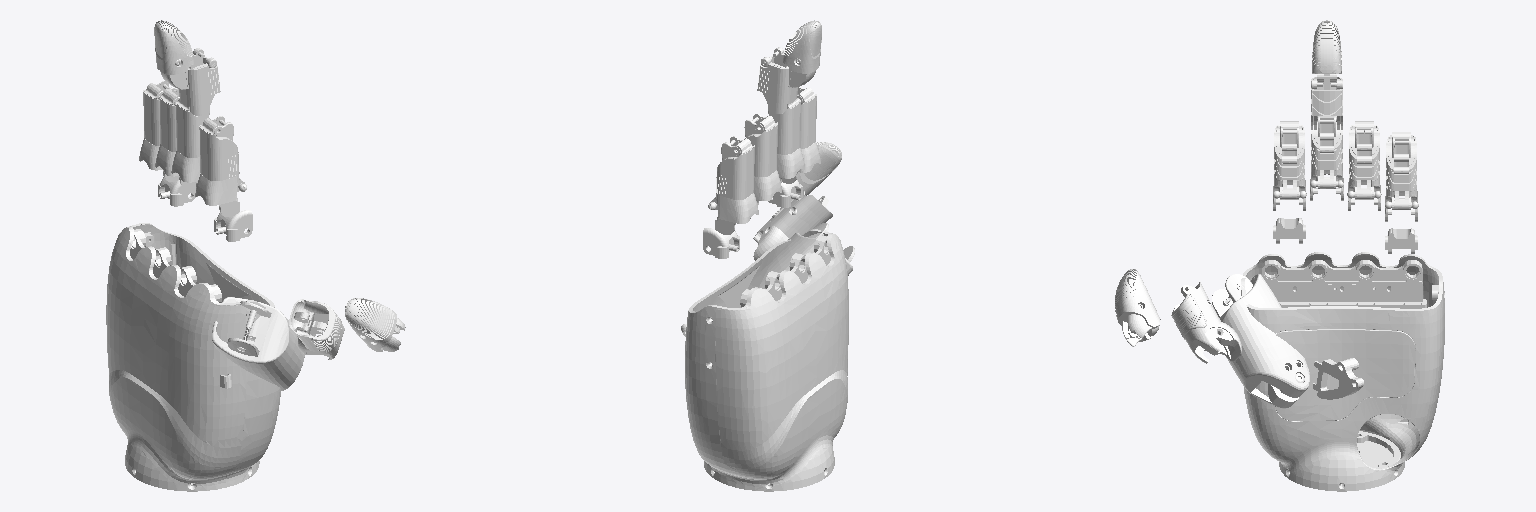
--- What the picture shows (computed from the rendered views, not written in the file) ---
3 views of the same robot in one strip: view 1: azimuth 30°, elevation 25°; view 2: azimuth 150°, elevation 25°; view 3: azimuth 270°, elevation 25° (orthographic).
Robot: linkerhand_l10_7_left.urdf — 21 links, 20 joints (20 revolute); root link hand_base_link; default pose: every joint at zero.
Links seen in each view (by area): view 1: hand_base_link, thumb_metacarpals, index_proximal, thumb_proximal, thumb_distal, middle_distal, middle_proximal, middle_middle, pinky_proximal, ring_proximal, index_metacarpals, pinky_metacarpals; view 2: hand_base_link, pinky_proximal, thumb_proximal, ring_proximal, middle_distal, middle_proximal, middle_middle, index_proximal, thumb_metacarpals, thumb_distal, pinky_metacarpals, index_metacarpals; view 3: hand_base_link, thumb_metacarpals, thumb_proximal, index_proximal, ring_proximal, pinky_proximal, thumb_distal, middle_proximal, middle_distal, thumb_metacarpals_base2, middle_middle, index_metacarpals (+1 smaller).
Boxes of the visible links, bbox=[...] form: hand_base_link: bbox=[106, 223, 280, 491]; thumb_metacarpals: bbox=[212, 297, 304, 390]; index_proximal: bbox=[195, 116, 246, 216]; thumb_proximal: bbox=[289, 299, 344, 359]; thumb_distal: bbox=[345, 298, 405, 351]; middle_distal: bbox=[154, 20, 193, 89]; middle_proximal: bbox=[171, 99, 210, 186]; middle_middle: bbox=[179, 48, 220, 121]; pinky_proximal: bbox=[139, 81, 178, 181]; ring_proximal: bbox=[155, 88, 195, 187]; index_metacarpals: bbox=[214, 202, 252, 241]; pinky_metacarpals: bbox=[158, 177, 195, 206]; hand_base_link: bbox=[685, 229, 848, 491]; pinky_proximal: bbox=[708, 136, 758, 234]; thumb_proximal: bbox=[753, 190, 832, 260]; ring_proximal: bbox=[744, 114, 781, 204]; middle_distal: bbox=[783, 20, 821, 87]; middle_proximal: bbox=[767, 98, 804, 182]; middle_middle: bbox=[757, 47, 797, 118]; index_proximal: bbox=[782, 87, 820, 183]; thumb_metacarpals: bbox=[759, 223, 854, 288]; thumb_distal: bbox=[797, 142, 841, 195]; pinky_metacarpals: bbox=[703, 220, 739, 258]; index_metacarpals: bbox=[768, 180, 802, 207]; hand_base_link: bbox=[1241, 252, 1444, 491]; thumb_metacarpals: bbox=[1212, 274, 1309, 408]; thumb_proximal: bbox=[1171, 282, 1241, 363]; index_proximal: bbox=[1273, 121, 1306, 210]; ring_proximal: bbox=[1347, 121, 1381, 210]; pinky_proximal: bbox=[1385, 132, 1418, 221]; thumb_distal: bbox=[1115, 269, 1160, 346]; middle_proximal: bbox=[1310, 116, 1343, 200]; middle_distal: bbox=[1312, 20, 1341, 89]; thumb_metacarpals_base2: bbox=[1313, 358, 1363, 399]; middle_middle: bbox=[1311, 76, 1342, 129]; index_metacarpals: bbox=[1273, 218, 1305, 243].
Size in the robot's own frame: 0.0896 by 0.1682 by 0.2394 metres.
Meshes: 21 distinct files referenced, 14 mesh visuals loaded (14 binary STL); not drawn: 7 (reference not matched to a file when rendering).

The robot description file, URDF, robot "linkerhand_l10_7_left.urdf":
<?xml version="1.0" encoding="utf-8"?>
<!-- This URDF was automatically created by SolidWorks to URDF Exporter! Originally created by Stephen Brawner ([email redacted]) 
     Commit Version: 1.6.0-4-g7f85cfe  Build Version: 1.6.7995.38578
     For more information, please see http://wiki.ros.org/sw_urdf_exporter -->
<robot
  name="linkerhand_l10_7_left.urdf">
  <link
    name="hand_base_link">
    <inertial>
      <origin
        xyz="-0.00378861347427444 0.000820204450212636 0.0805686615687793"
        rpy="0 0 0" />
      <mass
        value="0.103652479414282" />
      <inertia
        ixx="0.000193076183439416"
        ixy="-1.28622350247984E-06"
        ixz="2.06064564158949E-07"
        iyy="0.00012926288517179"
        iyz="2.33887125852557E-06"
        izz="7.7154522927083E-05" />
    </inertial>
    <visual>
      <origin
        xyz="0 0 0"
        rpy="0 0 0" />
      <geometry>
        <mesh
          filename="meshes/hand_base_link.STL" />
      </geometry>
      <material
        name="">
        <color
          rgba="1 1 1 1" />
      </material>
    </visual>
    <collision>
      <origin
        xyz="0 0 0"
        rpy="0 0 0" />
      <geometry>
        <mesh
          filename="meshes/hand_base_link.STL" />
      </geometry>
    </collision>
  </link>
  <link
    name="thumb_metacarpals_base1">
    <inertial>
      <origin
        xyz="0.0284774512174003 0.00319294525979458 0.000288805100279406"
        rpy="0 0 0" />
      <mass
        value="0.00845816139945221" />
      <inertia
        ixx="1.40261486759336E-06"
        ixy="-1.18203915023492E-07"
        ixz="-1.77734618116876E-08"
        iyy="9.82563502315962E-07"
        iyz="6.88489366314261E-08"
        izz="7.36187487063603E-07" />
    </inertial>
    <visual>
      <origin
        xyz="0 0 0"
        rpy="0 0 0" />
      <geometry>
        <mesh
          filename="meshes/thumb_metacarpals_base1.STL" />
      </geometry>
      <material
        name="">
        <color
          rgba="1 1 1 1" />
      </material>
    </visual>
    <collision>
      <origin
        xyz="0 0 0"
        rpy="0 0 0" />
      <geometry>
        <mesh
          filename="meshes/thumb_metacarpals_base1.STL" />
      </geometry>
    </collision>
  </link>
  <joint
    name="thumb_cmc_roll"
    type="revolute">
    <origin
      xyz="-0.013419 -0.012551 0.060602"
      rpy="0 0 0" />
    <parent
      link="hand_base_link" />
    <child
      link="thumb_metacarpals_base1" />
    <axis
      xyz="-0.99996 0 -0.0087265" />
    <limit
      lower="0"
      upper="1.1339"
      effort="100"
      velocity="1" />
  </joint>
  <link
    name="thumb_metacarpals_base2">
    <inertial>
      <origin
        xyz="0.00183846579918134 -0.00587846426611621 -0.0015162158210808"
        rpy="0 0 0" />
      <mass
        value="0.00244725578113259" />
      <inertia
        ixx="1.15251315698557E-07"
        ixy="4.89370850547165E-09"
        ixz="2.66612542059565E-09"
        iyy="9.94309628765418E-08"
        iyz="3.10591576019106E-09"
        izz="6.87375869983625E-08" />
    </inertial>
    <visual>
      <origin
        xyz="0 0 0"
        rpy="0 0 0" />
      <geometry>
        <mesh
          filename="meshes/thumb_metacarpals_base2.STL" />
      </geometry>
      <material
        name="">
        <color
          rgba="1 1 1 1" />
      </material>
    </visual>
    <collision>
      <origin
        xyz="0 0 0"
        rpy="0 0 0" />
      <geometry>
        <mesh
          filename="meshes/thumb_metacarpals_base2.STL" />
      </geometry>
    </collision>
  </link>
  <joint
    name="thumb_cmc_yaw"
    type="revolute">
    <origin
      xyz="0.035797 0.00065879 0.00045944"
      rpy="0 0 0" />
    <parent
      link="thumb_metacarpals_base1" />
    <child
      link="thumb_metacarpals_base2" />
    <axis
      xyz="-0.008517 -0.21782 0.97595" />
    <limit
      lower="0"
      upper="1.9189"
      effort="100"
      velocity="1" />
  </joint>
  <link
    name="thumb_metacarpals">
    <inertial>
      <origin
        xyz="0.00183662026125164 3.48962479811143E-06 0.0269904486748884"
        rpy="0 0 0" />
      <mass
        value="0.01520120856034" />
      <inertia
        ixx="2.9536990439562E-06"
        ixy="-4.54477085913726E-11"
        ixz="1.58082889158651E-07"
        iyy="3.8477051320862E-06"
        iyz="-4.17561402252793E-10"
        izz="1.32008356198982E-06" />
    </inertial>
    <visual>
      <origin
        xyz="0 0 0"
        rpy="0 0 0" />
      <geometry>
        <mesh
          filename="meshes/thumb_metacarpals.STL" />
      </geometry>
      <material
        name="">
        <color
          rgba="1 1 1 1" />
      </material>
    </visual>
    <collision>
      <origin
        xyz="0 0 0"
        rpy="0 0 0" />
      <geometry>
        <mesh
          filename="meshes/thumb_metacarpals.STL" />
      </geometry>
    </collision>
  </link>
  <joint
    name="thumb_cmc_pitch"
    type="revolute">
    <origin
      xyz="0.0046051 -0.014383 -0.0051478"
      rpy="-0.16356 -1.1191 2.0038" />
    <parent
      link="thumb_metacarpals_base2" />
    <child
      link="thumb_metacarpals" />
    <axis
      xyz="0 1 0" />
    <limit
      lower="0"
      upper="0.5149"
      effort="0"
      velocity="0" />
  </joint>
  <link
    name="thumb_proximal">
    <inertial>
      <origin
        xyz="0.0015926125860982 4.26589066317498E-06 0.0151572207811941"
        rpy="0 0 0" />
      <mass
        value="0.00662223966318386" />
      <inertia
        ixx="1.0152616293145E-06"
        ixy="6.75215818960843E-12"
        ixz="4.42240858300533E-08"
        iyy="9.10425093388008E-07"
        iyz="-2.56550662127861E-11"
        izz="4.47461802494835E-07" />
    </inertial>
    <visual>
      <origin
        xyz="0 0 0"
        rpy="0 0 0" />
      <geometry>
        <mesh
          filename="meshes/thumb_proximal.STL" />
      </geometry>
      <material
        name="">
        <color
          rgba="1 1 1 1" />
      </material>
    </visual>
    <collision>
      <origin
        xyz="0 0 0"
        rpy="0 0 0" />
      <geometry>
        <mesh
          filename="meshes/thumb_proximal.STL" />
      </geometry>
    </collision>
  </link>
  <joint
    name="thumb_mcp"
    type="revolute">
    <origin
      xyz="0.0061722 0 0.047968"
      rpy="0 0 0" />
    <parent
      link="thumb_metacarpals" />
    <child
      link="thumb_proximal" />
    <axis
      xyz="0 1 0" />
    <limit
      lower="0"
      upper="0.7152"
      effort="100"
      velocity="1" />
    <mimic
      joint="thumb_cmc_pitch"
      multiplier="1.3898"
      offset="0" />
  </joint>
  <link
    name="thumb_distal">
    <inertial>
      <origin
        xyz="-0.00138804783940386 -1.95109829512208E-06 0.0115761271998154"
        rpy="0 0 0" />
      <mass
        value="0.00512789958515099" />
      <inertia
        ixx="3.30786354228455E-07"
        ixy="3.37981828718406E-10"
        ixz="1.04683577058069E-07"
        iyy="3.23607405408934E-07"
        iyz="1.24601619348998E-10"
        izz="2.48874162996129E-07" />
    </inertial>
    <visual>
      <origin
        xyz="0 0 0"
        rpy="0 0 0" />
      <geometry>
        <mesh
          filename="meshes/thumb_distal.STL" />
      </geometry>
      <material
        name="">
        <color
          rgba="1 1 1 1" />
      </material>
    </visual>
    <collision>
      <origin
        xyz="0 0 0"
        rpy="0 0 0" />
      <geometry>
        <mesh
          filename="meshes/thumb_distal.STL" />
      </geometry>
    </collision>
  </link>
  <joint
    name="thumb_ip"
    type="revolute">
    <origin
      xyz="-0.00017064 0 0.038665"
      rpy="0 0 0" />
    <parent
      link="thumb_proximal" />
    <child
      link="thumb_distal" />
    <axis
      xyz="0 1 0" />
    <limit
      lower="0"
      upper="0.7763"
      effort="100"
      velocity="1" />
    <mimic
      joint="thumb_cmc_pitch"
      multiplier="1.508"
      offset="0" />
  </joint>
  <link
    name="index_metacarpals">
    <inertial>
      <origin
        xyz="-0.00152426817464821 6.05770268113925E-07 0.0106911596123391"
        rpy="0 0 0" />
      <mass
        value="0.00388771277323252" />
      <inertia
        ixx="1.87385239390143E-07"
        ixy="-1.50747799029618E-11"
        ixz="-1.3585152124314E-08"
        iyy="2.75278189614443E-07"
        iyz="-2.13460044424543E-11"
        izz="2.06630683818818E-07" />
    </inertial>
    <visual>
      <origin
        xyz="0 0 0"
        rpy="0 0 0" />
      <geometry>
        <mesh
          filename="meshes/index_metacarpals.STL" />
      </geometry>
      <material
        name="">
        <color
          rgba="1 1 1 1" />
      </material>
    </visual>
    <collision>
      <origin
        xyz="0 0 0"
        rpy="0 0 0" />
      <geometry>
        <mesh
          filename="meshes/index_metacarpals.STL" />
      </geometry>
    </collision>
  </link>
  <joint
    name="index_mcp_roll"
    type="revolute">
    <origin
      xyz="-0.0021643 -0.026654 0.13253"
      rpy="0 0 0" />
    <parent
      link="hand_base_link" />
    <child
      link="index_metacarpals" />
    <axis
      xyz="0.99996 0 0.0087265" />
    <limit
      lower="0"
      upper="0.2181"
      effort="100"
      velocity="1" />
  </joint>
  <link
    name="index_proximal">
    <inertial>
      <origin
        xyz="-0.00138261335013087 -2.0448073701218E-06 0.0182296115874793"
        rpy="0 0 0" />
      <mass
        value="0.00316246721925245" />
      <inertia
        ixx="3.56395782183238E-07"
        ixy="-1.519753847635E-11"
        ixz="4.33017644796655E-08"
        iyy="3.51905921291625E-07"
        iyz="1.08366129189436E-10"
        izz="1.41611972744247E-07" />
    </inertial>
    <visual>
      <origin
        xyz="0 0 0"
        rpy="0 0 0" />
      <geometry>
        <mesh
          filename="meshes/index_proximal.STL" />
      </geometry>
      <material
        name="">
        <color
          rgba="1 1 1 1" />
      </material>
    </visual>
    <collision>
      <origin
        xyz="0 0 0"
        rpy="0 0 0" />
      <geometry>
        <mesh
          filename="meshes/index_proximal.STL" />
      </geometry>
    </collision>
  </link>
  <joint
    name="index_mcp_pitch"
    type="revolute">
    <origin
      xyz="0.0020763 0 0.015294"
      rpy="0 0 0" />
    <parent
      link="index_metacarpals" />
    <child
      link="index_proximal" />
    <axis
      xyz="0 1 0" />
    <limit
      lower="0"
      upper="1.3607"
      effort="100"
      velocity="1" />
  </joint>
  <link
    name="index_middle">
    <inertial>
      <origin
        xyz="-0.00259933527445673 2.18965318593556E-06 0.0110174750966451"
        rpy="0 0 0" />
      <mass
        value="0.00283043922879456" />
      <inertia
        ixx="2.60328600820399E-07"
        ixy="-5.78747075104944E-11"
        ixz="4.11785819343582E-08"
        iyy="2.3307752147835E-07"
        iyz="2.81942890795077E-11"
        izz="1.27252338208461E-07" />
    </inertial>
    <visual>
      <origin
        xyz="0 0 0"
        rpy="0 0 0" />
      <geometry>
        <mesh
          filename="meshes/index_middle.STL" />
      </geometry>
      <material
        name="">
        <color
          rgba="1 1 1 1" />
      </material>
    </visual>
    <collision>
      <origin
        xyz="0 0 0"
        rpy="0 0 0" />
      <geometry>
        <mesh
          filename="meshes/index_middle.STL" />
      </geometry>
    </collision>
  </link>
  <joint
    name="index_pip"
    type="revolute">
    <origin
      xyz="-0.0013807 0 0.035624"
      rpy="0 0 0" />
    <parent
      link="index_proximal" />
    <child
      link="index_middle" />
    <axis
      xyz="0 1 0" />
    <limit
      lower="0"
      upper="1.8317"
      effort="100"
      velocity="1" />
    <mimic
      joint="index_mcp_pitch"
      multiplier="1.3462"
      offset="0" />
  </joint>
  <link
    name="index_distal">
    <inertial>
      <origin
        xyz="-0.000710517111010627 -4.75726794854636E-06 0.012145336450558"
        rpy="0 0 0" />
      <mass
        value="0.00314452064297397" />
      <inertia
        ixx="1.63317340328391E-07"
        ixy="-2.09419656935959E-11"
        ixz="4.33496816458187E-08"
        iyy="1.48361285562251E-07"
        iyz="1.96803996917722E-10"
        izz="9.85553531650042E-08" />
    </inertial>
    <visual>
      <origin
        xyz="0 0 0"
        rpy="0 0 0" />
      <geometry>
        <mesh
          filename="meshes/index_distal.STL" />
      </geometry>
      <material
        name="">
        <color
          rgba="1 1 1 1" />
      </material>
    </visual>
    <collision>
      <origin
        xyz="0 0 0"
        rpy="0 0 0" />
      <geometry>
        <mesh
          filename="meshes/index_distal.STL" />
      </geometry>
    </collision>
  </link>
  <joint
    name="index_dip"
    type="revolute">
    <origin
      xyz="-0.0054686 0 0.025665"
      rpy="0 0 0" />
    <parent
      link="index_middle" />
    <child
      link="index_distal" />
    <axis
      xyz="0 1 0" />
    <limit
      lower="0"
      upper="0.628"
      effort="100"
      velocity="1" />
    <mimic
      joint="index_mcp_pitch"
      multiplier="0.4616"
      offset="0" />
  </joint>
  <link
    name="middle_proximal">
    <inertial>
      <origin
        xyz="-0.00139098027014184 -2.04476498844031E-06 0.0182289750275599"
        rpy="0 0 0" />
      <mass
        value="0.00316246719662224" />
      <inertia
        ixx="3.56355985740973E-07"
        ixy="-1.52464655137029E-11"
        ixz="4.34003274159042E-08"
        iyy="3.51905920397221E-07"
        iyz="1.08359634878477E-10"
        izz="1.41651767407151E-07" />
    </inertial>
    <visual>
      <origin
        xyz="0 0 0"
        rpy="0 0 0" />
      <geometry>
        <mesh
          filename="meshes/middle_proximal.STL" />
      </geometry>
      <material
        name="">
        <color
          rgba="1 1 1 1" />
      </material>
    </visual>
    <collision>
      <origin
        xyz="0 0 0"
        rpy="0 0 0" />
      <geometry>
        <mesh
          filename="meshes/middle_proximal.STL" />
      </geometry>
    </collision>
  </link>
  <joint
    name="middle_mcp_pitch"
    type="revolute">
    <origin
      xyz="-0.0021316 -0.0076542 0.15281"
      rpy="0 0 0" />
    <parent
      link="hand_base_link" />
    <child
      link="middle_proximal" />
    <axis
      xyz="0 1 0" />
    <limit
      lower="0"
      upper="1.3607"
      effort="100"
      velocity="1" />
  </joint>
  <link
    name="middle_middle">
    <inertial>
      <origin
        xyz="-0.0026170048250792 2.18964489276385E-06 0.0110132913946175"
        rpy="0 0 0" />
      <mass
        value="0.00283043921858529" />
      <inertia
        ixx="2.6019615015243E-07"
        ixy="-5.79194626881696E-11"
        ixz="4.13918339836743E-08"
        iyy="2.33077520740401E-07"
        iyz="2.81014096462077E-11"
        izz="1.27384787247362E-07" />
    </inertial>
    <visual>
      <origin
        xyz="0 0 0"
        rpy="0 0 0" />
      <geometry>
        <mesh
          filename="meshes/middle_middle.STL" />
      </geometry>
      <material
        name="">
        <color
          rgba="1 1 1 1" />
      </material>
    </visual>
    <collision>
      <origin
        xyz="0 0 0"
        rpy="0 0 0" />
      <geometry>
        <mesh
          filename="meshes/middle_middle.STL" />
      </geometry>
    </collision>
  </link>
  <joint
    name="middle_pip"
    type="revolute">
    <origin
      xyz="-0.001397 0 0.035623"
      rpy="0 0 0" />
    <parent
      link="middle_proximal" />
    <child
      link="middle_middle" />
    <axis
      xyz="0 1 0" />
    <limit
      lower="0"
      upper="1.8317"
      effort="100"
      velocity="1" />
    <mimic
      joint="middle_mcp_pitch"
      multiplier="1.3462"
      offset="0" />
  </joint>
  <link
    name="middle_distal">
    <inertial>
      <origin
        xyz="-0.000728403029144615 -4.7556974856755E-06 0.0121442774004862"
        rpy="0 0 0" />
      <mass
        value="0.00314452092965163" />
      <inertia
        ixx="1.63189533228873E-07"
        ixy="-2.12447856725291E-11"
        ixz="4.34448768867267E-08"
        iyy="1.48361296215225E-07"
        iyz="1.96771697224987E-10"
        izz="9.86831899309453E-08" />
    </inertial>
    <visual>
      <origin
        xyz="0 0 0"
        rpy="0 0 0" />
      <geometry>
        <mesh
          filename="meshes/middle_distal.STL" />
      </geometry>
      <material
        name="">
        <color
          rgba="1 1 1 1" />
      </material>
    </visual>
    <collision>
      <origin
        xyz="0 0 0"
        rpy="0 0 0" />
      <geometry>
        <mesh
          filename="meshes/middle_distal.STL" />
      </geometry>
    </collision>
  </link>
  <joint
    name="middle_dip"
    type="revolute">
    <origin
      xyz="-0.0055098 0 0.025656"
      rpy="0 0 0" />
    <parent
      link="middle_middle" />
    <child
      link="middle_distal" />
    <axis
      xyz="0 1 0" />
    <limit
      lower="0"
      upper="1.628"
      effort="100"
      velocity="1" />
    <mimic
      joint="middle_mcp_pitch"
      multiplier="0.4616"
      offset="0" />
  </joint>
  <link
    name="ring_metacarpals">
    <inertial>
      <origin
        xyz="-0.00152426817464828 6.05770268197192E-07 0.010691159612339"
        rpy="0 0 0" />
      <mass
        value="0.00388771277323251" />
      <inertia
        ixx="1.87385239390142E-07"
        ixy="-1.50747799012373E-11"
        ixz="-1.35851521243144E-08"
        iyy="2.75278189614442E-07"
        iyz="-2.13460044414369E-11"
        izz="2.06630683818817E-07" />
    </inertial>
    <visual>
      <origin
        xyz="0 0 0"
        rpy="0 0 0" />
      <geometry>
        <mesh
          filename="meshes/ring_metacarpals.STL" />
      </geometry>
      <material
        name="">
        <color
          rgba="1 1 1 1" />
      </material>
    </visual>
    <collision>
      <origin
        xyz="0 0 0"
        rpy="0 0 0" />
      <geometry>
        <mesh
          filename="meshes/ring_metacarpals.STL" />
      </geometry>
    </collision>
  </link>
  <joint
    name="ring_mcp_roll"
    type="revolute">
    <origin
      xyz="-0.0021643 0.011346 0.13253"
      rpy="0 0 0" />
    <parent
      link="hand_base_link" />
    <child
      link="ring_metacarpals" />
    <axis
      xyz="0.99996 0 0.0087265" />
    <limit
      lower="-0.2181"
      upper="0"
      effort="100"
      velocity="1" />
  </joint>
  <link
    name="ring_proximal">
    <inertial>
      <origin
        xyz="-0.00138261330266684 -2.0447785264166E-06 0.0182296118982312"
        rpy="0 0 0" />
      <mass
        value="0.0031624671652163" />
      <inertia
        ixx="3.56395781426818E-07"
        ixy="-1.51970550291323E-11"
        ixz="4.33017653956416E-08"
        iyy="3.51905919284355E-07"
        iyz="1.08366441004821E-10"
        izz="1.4161197116697E-07" />
    </inertial>
    <visual>
      <origin
        xyz="0 0 0"
        rpy="0 0 0" />
      <geometry>
        <mesh
          filename="meshes/ring_proximal.STL" />
      </geometry>
      <material
        name="">
        <color
          rgba="1 1 1 1" />
      </material>
    </visual>
    <collision>
      <origin
        xyz="0 0 0"
        rpy="0 0 0" />
      <geometry>
        <mesh
          filename="meshes/ring_proximal.STL" />
      </geometry>
    </collision>
  </link>
  <joint
    name="ring_mcp_pitch"
    type="revolute">
    <origin
      xyz="0.0020763 0 0.015294"
      rpy="0 0 0" />
    <parent
      link="ring_metacarpals" />
    <child
      link="ring_proximal" />
    <axis
      xyz="0 1 0" />
    <limit
      lower="0"
      upper="1.3607"
      effort="100"
      velocity="1" />
  </joint>
  <link
    name="ring_middle">
    <inertial>
      <origin
        xyz="-0.00259933547466245 2.18954477221311E-06 0.0110174751134697"
        rpy="0 0 0" />
      <mass
        value="0.00283043915953111" />
      <inertia
        ixx="2.60328598871493E-07"
        ixy="-5.78718096660343E-11"
        ixz="4.11785818944011E-08"
        iyy="2.33077515495018E-07"
        iyz="2.81941916146631E-11"
        izz="1.27252331273933E-07" />
    </inertial>
    <visual>
      <origin
        xyz="0 0 0"
        rpy="0 0 0" />
      <geometry>
        <mesh
          filename="meshes/ring_middle.STL" />
      </geometry>
      <material
        name="">
        <color
          rgba="1 1 1 1" />
      </material>
    </visual>
    <collision>
      <origin
        xyz="0 0 0"
        rpy="0 0 0" />
      <geometry>
        <mesh
          filename="meshes/ring_middle.STL" />
      </geometry>
    </collision>
  </link>
  <joint
    name="ring_pip"
    type="revolute">
    <origin
      xyz="-0.0013807 0 0.035624"
      rpy="0 0 0" />
    <parent
      link="ring_proximal" />
    <child
      link="ring_middle" />
    <axis
      xyz="0 1 0" />
    <limit
      lower="0"
      upper="1.8317"
      effort="100"
      velocity="1" />
    <mimic
      joint="ring_mcp_pitch"
      multiplier="1.3462"
      offset="0" />
  </joint>
  <link
    name="ring_distal">
    <inertial>
      <origin
        xyz="-0.000710517105065085 -4.75636578367578E-06 0.0121453401469508"
        rpy="0 0 0" />
      <mass
        value="0.00314452208497789" />
      <inertia
        ixx="1.63317386570295E-07"
        ixy="-2.09324585080789E-11"
        ixz="4.33497128582753E-08"
        iyy="1.48361350800559E-07"
        iyz="1.9679121866702E-10"
        izz="9.85553885284675E-08" />
    </inertial>
    <visual>
      <origin
        xyz="0 0 0"
        rpy="0 0 0" />
      <geometry>
        <mesh
          filename="meshes/ring_distal.STL" />
      </geometry>
      <material
        name="">
        <color
          rgba="1 1 1 1" />
      </material>
    </visual>
    <collision>
      <origin
        xyz="0 0 0"
        rpy="0 0 0" />
      <geometry>
        <mesh
          filename="meshes/ring_distal.STL" />
      </geometry>
    </collision>
  </link>
  <joint
    name="ring_dip"
    type="revolute">
    <origin
      xyz="-0.0054686 0 0.025665"
      rpy="0 0 0" />
    <parent
      link="ring_middle" />
    <child
      link="ring_distal" />
    <axis
      xyz="0 1 0" />
    <limit
      lower="0"
      upper="0.628"
      effort="100"
      velocity="1" />
    <mimic
      joint="ring_mcp_pitch"
      multiplier="0.4616"
      offset="0" />
  </joint>
  <link
    name="pinky_metacarpals">
    <inertial>
      <origin
        xyz="-0.0015242681746482 6.05770268197192E-07 0.010691159612339"
        rpy="0 0 0" />
      <mass
        value="0.00388771277323252" />
      <inertia
        ixx="1.87385239390143E-07"
        ixy="-1.50747799026559E-11"
        ixz="-1.35851521243143E-08"
        iyy="2.75278189614442E-07"
        iyz="-2.13460044423049E-11"
        izz="2.06630683818817E-07" />
    </inertial>
    <visual>
      <origin
        xyz="0 0 0"
        rpy="0 0 0" />
      <geometry>
        <mesh
          filename="meshes/pinky_metacarpals.STL" />
      </geometry>
      <material
        name="">
        <color
          rgba="1 1 1 1" />
      </material>
    </visual>
    <collision>
      <origin
        xyz="0 0 0"
        rpy="0 0 0" />
      <geometry>
        <mesh
          filename="meshes/pinky_metacarpals.STL" />
      </geometry>
    </collision>
  </link>
  <joint
    name="pinky_mcp_roll"
    type="revolute">
    <origin
      xyz="-0.00012074 0.030346 0.12755"
      rpy="0 0 0" />
    <parent
      link="hand_base_link" />
    <child
      link="pinky_metacarpals" />
    <axis
      xyz="0.99996 0 0.0087265" />
    <limit
      lower="-0.3489"
      upper="0"
      effort="100"
      velocity="1" />
  </joint>
  <link
    name="pinky_proximal">
    <inertial>
      <origin
        xyz="-0.0013826133500916 -2.04480739013357E-06 0.0182296115873023"
        rpy="0 0 0" />
      <mass
        value="0.00316246721927742" />
      <inertia
        ixx="3.56395782184299E-07"
        ixy="-1.51975383069221E-11"
        ixz="4.33017644806427E-08"
        iyy="3.51905921292737E-07"
        iyz="1.08366128612708E-10"
        izz="1.41611972744827E-07" />
    </inertial>
    <visual>
      <origin
        xyz="0 0 0"
        rpy="0 0 0" />
      <geometry>
        <mesh
          filename="meshes/pinky_proximal.STL" />
      </geometry>
      <material
        name="">
        <color
          rgba="1 1 1 1" />
      </material>
    </visual>
    <collision>
      <origin
        xyz="0 0 0"
        rpy="0 0 0" />
      <geometry>
        <mesh
          filename="meshes/pinky_proximal.STL" />
      </geometry>
    </collision>
  </link>
  <joint
    name="pinky_mcp_pitch"
    type="revolute">
    <origin
      xyz="0.0020763 0 0.015294"
      rpy="0 0 0" />
    <parent
      link="pinky_metacarpals" />
    <child
      link="pinky_proximal" />
    <axis
      xyz="0 1 0" />
    <limit
      lower="0"
      upper="1.3607"
      effort="100"
      velocity="1" />
  </joint>
  <link
    name="pinky_middle">
    <inertial>
      <origin
        xyz="-0.0025993354746625 2.18954477224087E-06 0.0110174751134698"
        rpy="0 0 0" />
      <mass
        value="0.00283043915953116" />
      <inertia
        ixx="2.60328598871551E-07"
        ixy="-5.78718096771597E-11"
        ixz="4.11785818944279E-08"
        iyy="2.33077515495214E-07"
        iyz="2.81941916132638E-11"
        izz="1.27252331274066E-07" />
    </inertial>
    <visual>
      <origin
        xyz="0 0 0"
        rpy="0 0 0" />
      <geometry>
        <mesh
          filename="meshes/pinky_middle.STL" />
      </geometry>
      <material
        name="">
        <color
          rgba="1 1 1 1" />
      </material>
    </visual>
    <collision>
      <origin
        xyz="0 0 0"
        rpy="0 0 0" />
      <geometry>
        <mesh
          filename="meshes/pinky_middle.STL" />
      </geometry>
    </collision>
  </link>
  <joint
    name="pinky_pip"
    type="revolute">
    <origin
      xyz="-0.0013807 0 0.035624"
      rpy="0 0 0" />
    <parent
      link="pinky_proximal" />
    <child
      link="pinky_middle" />
    <axis
      xyz="0 1 0" />
    <limit
      lower="0"
      upper="1.8317"
      effort="100"
      velocity="1" />
    <mimic
      joint="pinky_mcp_pitch"
      multiplier="1.3462"
      offset="0" />
  </joint>
  <link
    name="pinky_distal">
    <inertial>
      <origin
        xyz="-0.000710517460743719 -4.75730252216811E-06 0.0121453361986339"
        rpy="0 0 0" />
      <mass
        value="0.00314452044951957" />
      <inertia
        ixx="1.63317337383031E-07"
        ixy="-2.09430019728007E-11"
        ixz="4.33496839959002E-08"
        iyy="1.48361292034124E-07"
        iyz="1.96809590206387E-10"
        izz="9.85553441949477E-08" />
    </inertial>
    <visual>
      <origin
        xyz="0 0 0"
        rpy="0 0 0" />
      <geometry>
        <mesh
          filename="meshes/pinky_distal.STL" />
      </geometry>
      <material
        name="">
        <color
          rgba="1 1 1 1" />
      </material>
    </visual>
    <collision>
      <origin
        xyz="0 0 0"
        rpy="0 0 0" />
      <geometry>
        <mesh
          filename="meshes/pinky_distal.STL" />
      </geometry>
    </collision>
  </link>
  <joint
    name="pinky_dip"
    type="revolute">
    <origin
      xyz="-0.0054686 0 0.025665"
      rpy="0 0 0" />
    <parent
      link="pinky_middle" />
    <child
      link="pinky_distal" />
    <axis
      xyz="0 1 0" />
    <limit
      lower="0"
      upper="0.628"
      effort="100"
      velocity="1" />
    <mimic
      joint="pinky_mcp_pitch"
      multiplier="0.4616"
      offset="0" />
  </joint>
</robot>
